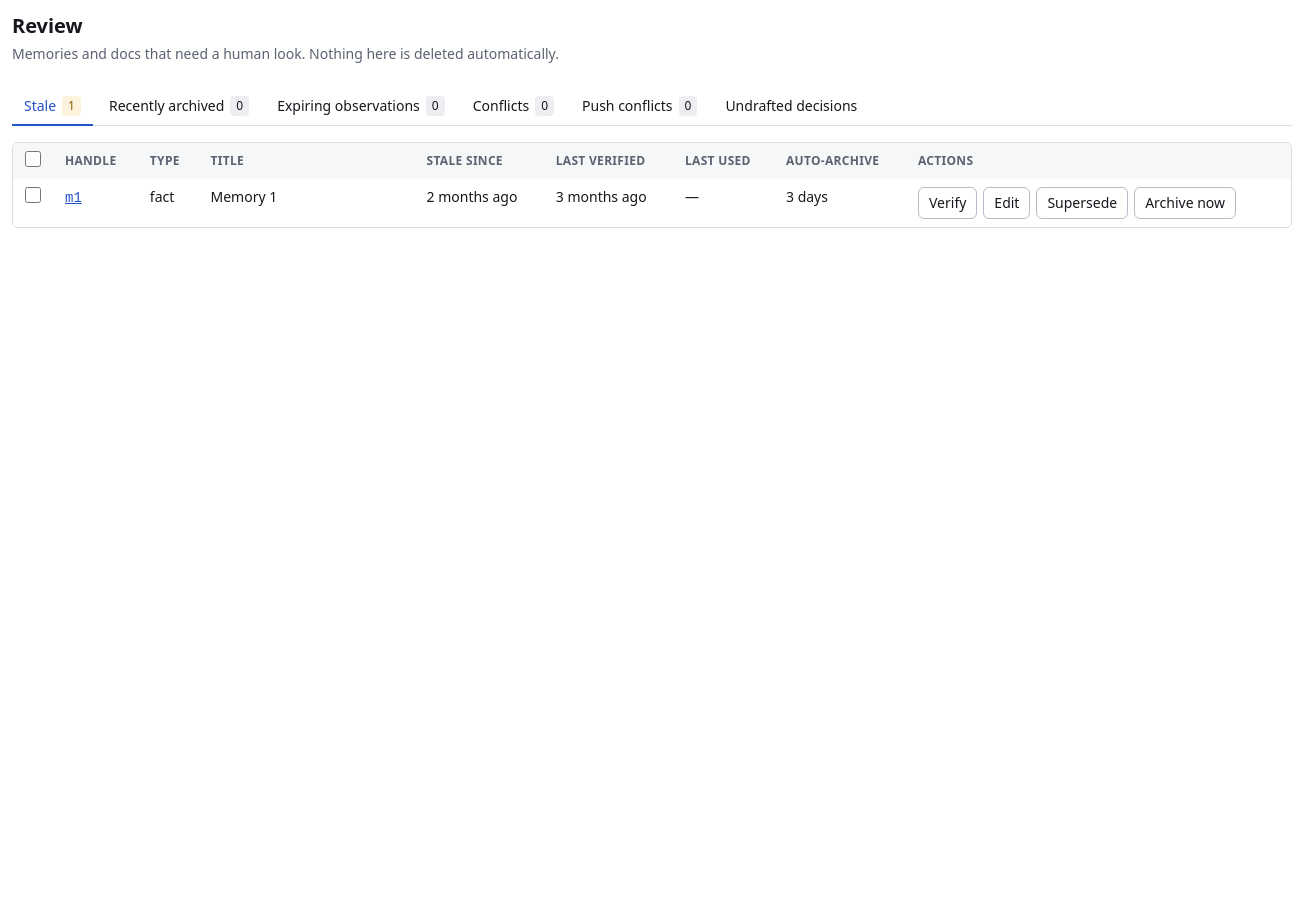
Scenario: ReviewPage › confirms the action on the last row although its section unmounts at once
Click the button "Verify": (948, 203) [918,187,977,219]
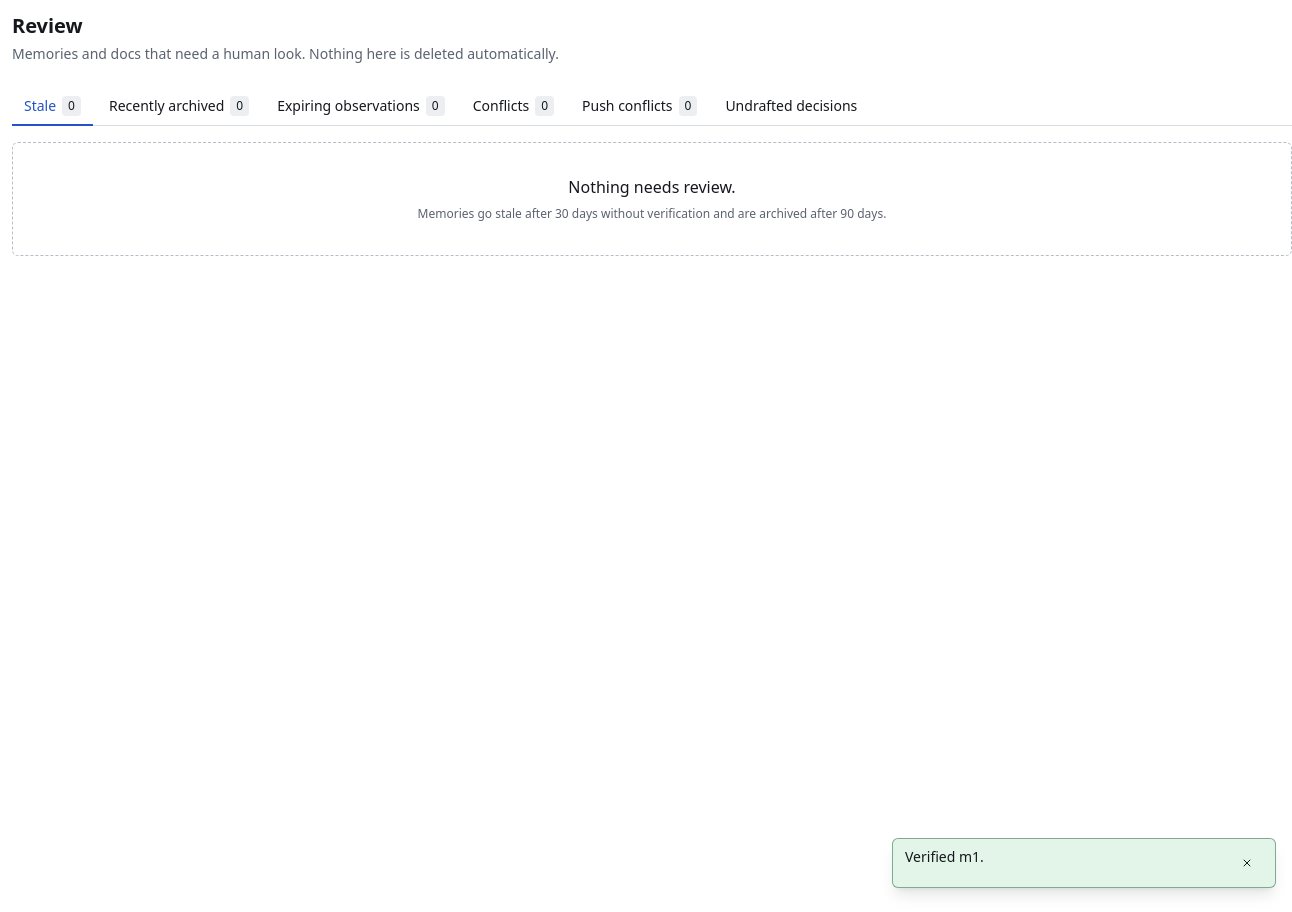
Expected: the text "Nothing needs review." is shown, [568,176,736,198]
Expected: the text "Verified m1." is shown, [905,847,984,866]
